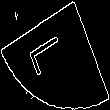L_NE: (32, 30, 78, 80)
